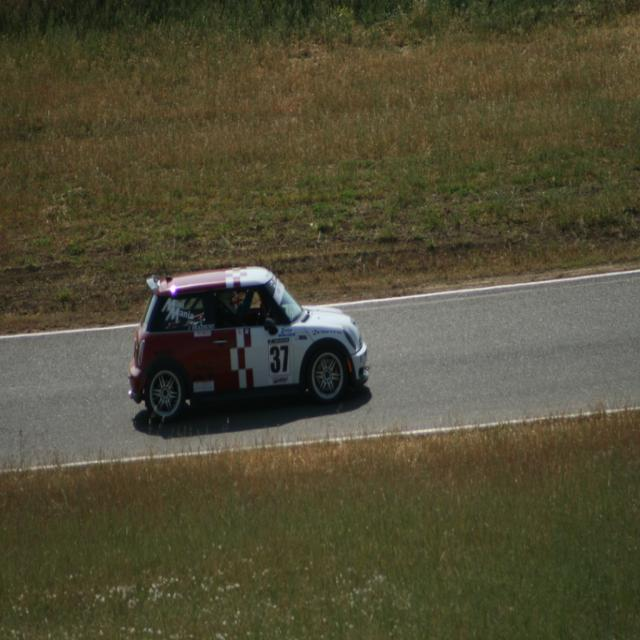car: (128, 260, 368, 427)
